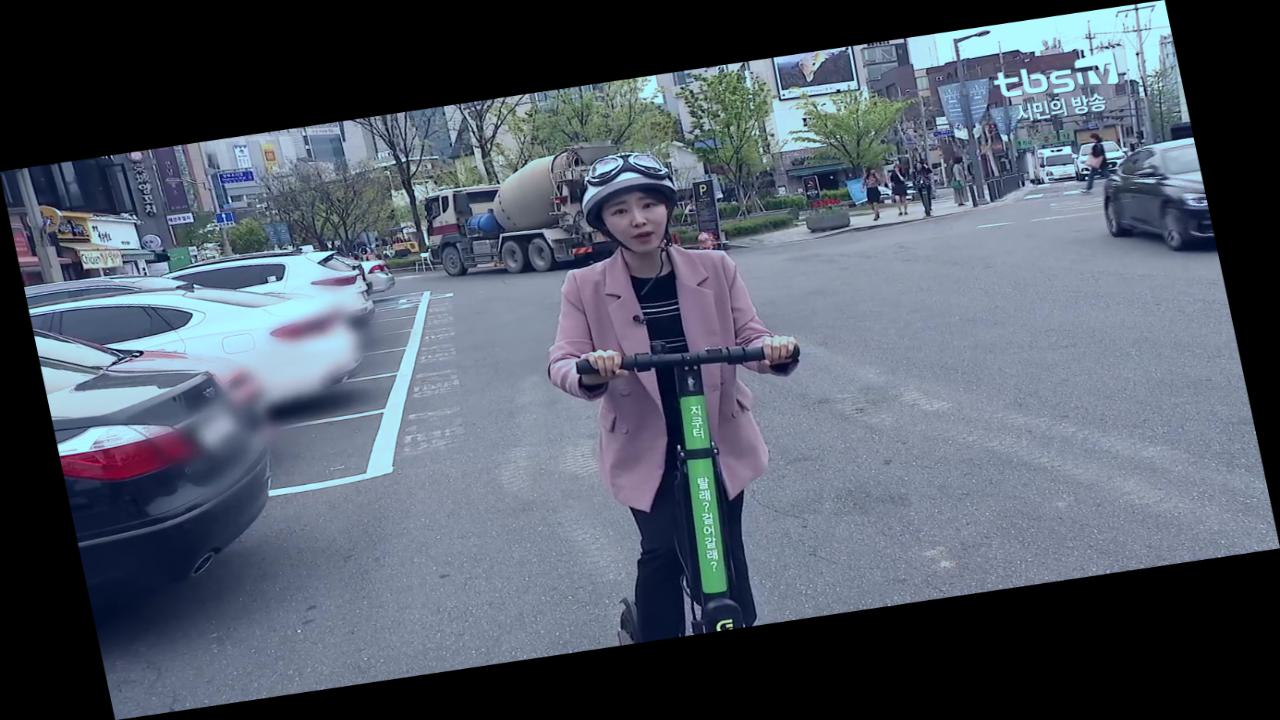helmet: (504, 134, 859, 648)
